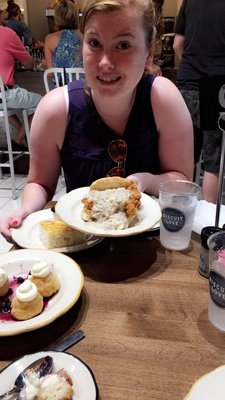pizza: (157, 179, 202, 251)
